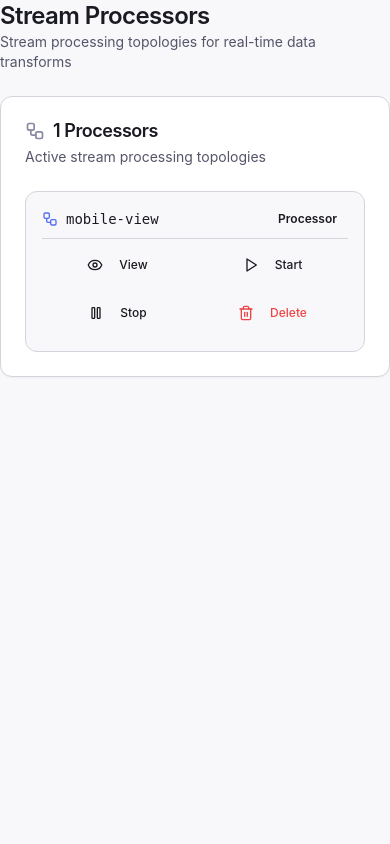
Scenario: ProcessorsPage › shows View processor detail from mobile card view
Expected: the text "mobile-view" is shown, top-left (66, 209), bottom-right (159, 229)
Click the button with aria-label "View processor mobile-view": [118, 265] box top-left (42, 243), bottom-right (193, 287)
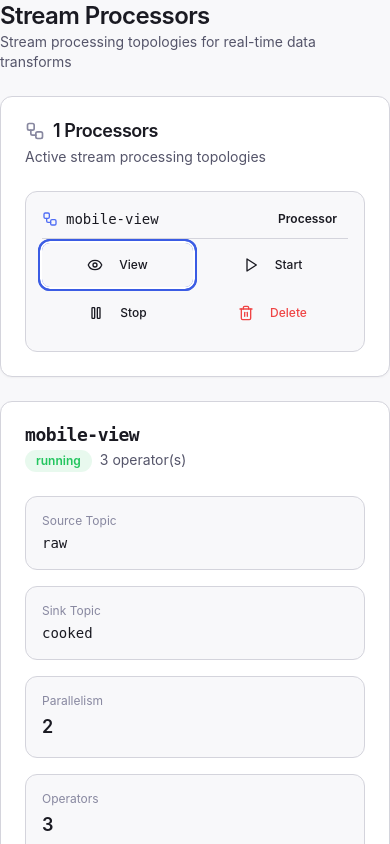
Result: the text "raw" is shown at top-left (42, 535), bottom-right (67, 551)
Result: the text "cooked" is shown at top-left (42, 625), bottom-right (93, 641)
